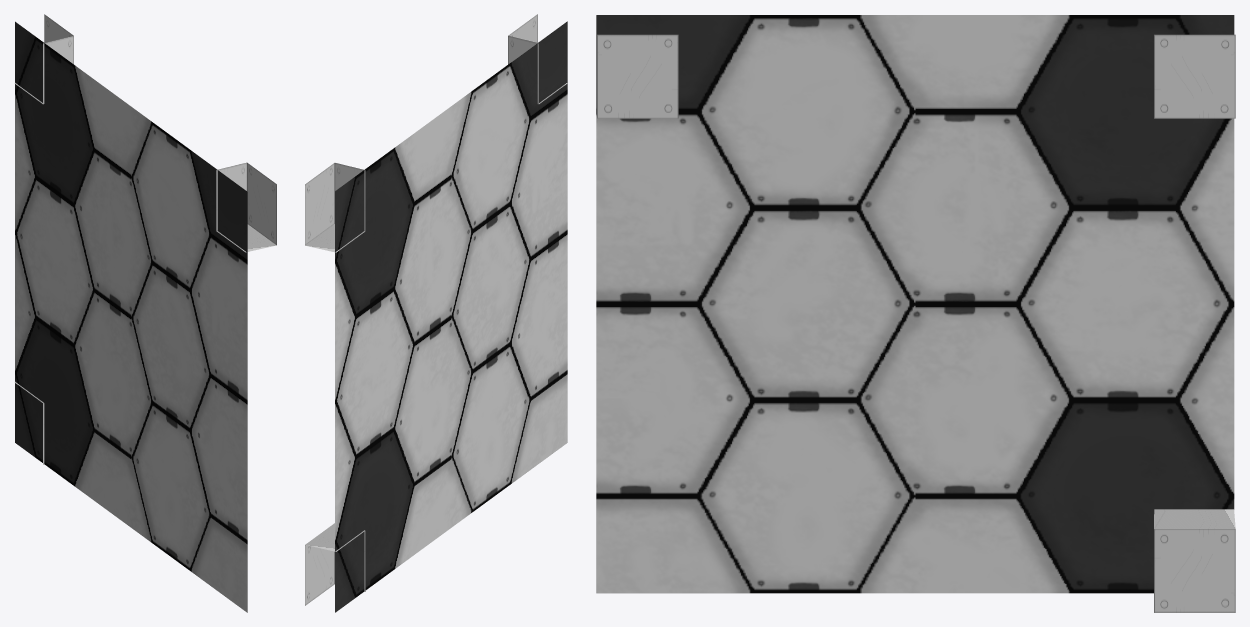
File: Wall_CornerL3.fbx
3 views of the same model, side by side, from view 1: azimuth 30°, elevation 25°; view 2: azimuth 150°, elevation 25°; view 3: azimuth 270°, elevation 25° (orthographic). The views are drawn at different scales.
Visible parts, largest first — view 1: pPlane117; view 2: pPlane117; view 3: pPlane117.
Boxes of the visible parts, x1=… form: pPlane117: x1=14, y1=14, x2=276, y2=612; pPlane117: x1=305, y1=14, x2=567, y2=612; pPlane117: x1=596, y1=15, x2=1235, y2=612.
Bounding box in the file's own units: 0.1534 × 2 × 2.
